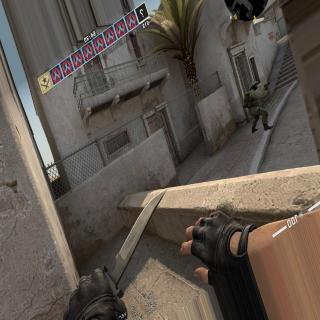CT-Body: (244, 78, 271, 134)
CT-Head: (250, 80, 258, 90)
